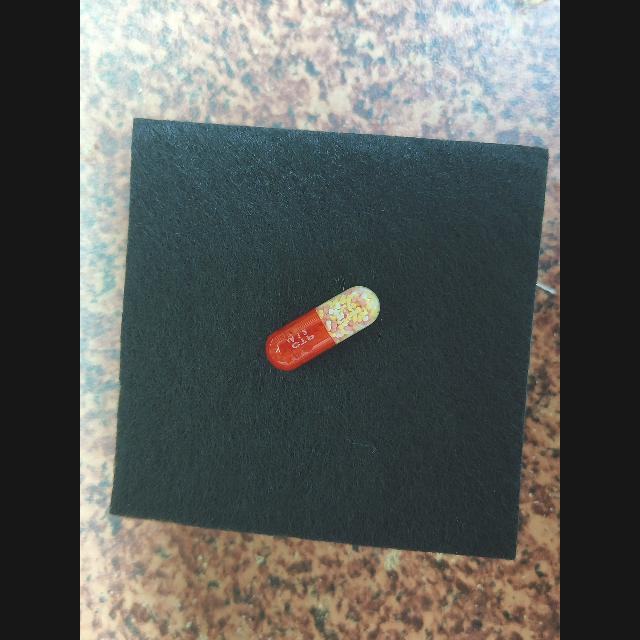Intact Capsule: (266, 286, 380, 371)
